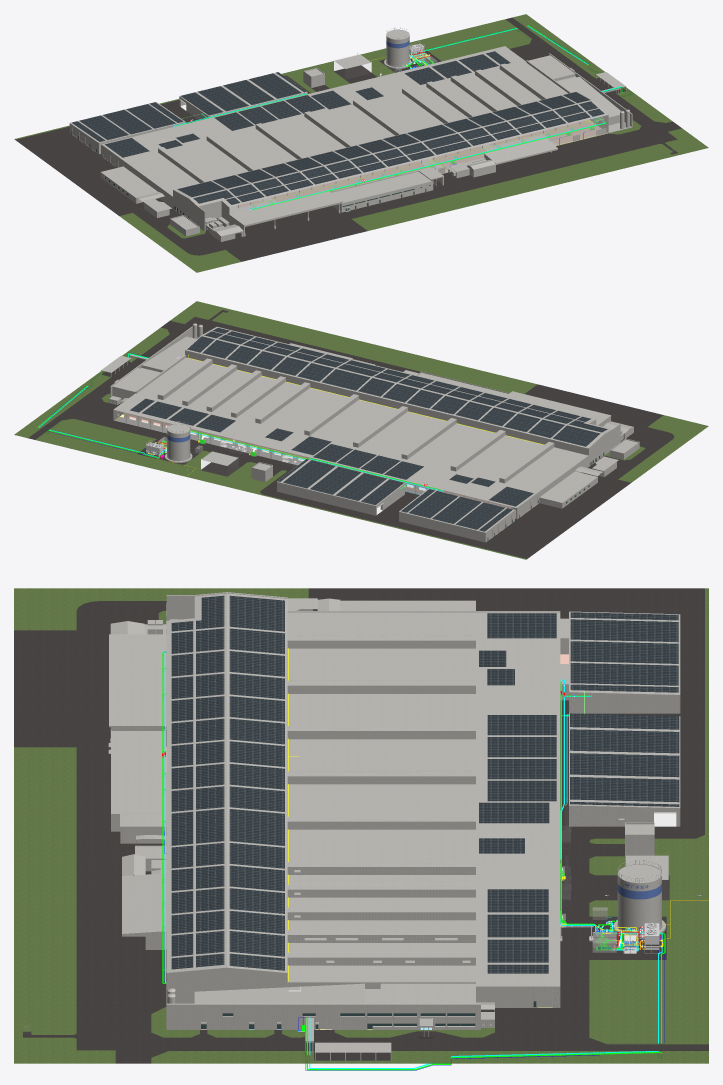
The model's file is 广州双叶厂房_工况Lines(1).glb.
3 renders of one model, top to bottom at view 1: azimuth 30°, elevation 25°; view 2: azimuth 150°, elevation 25°; view 3: azimuth 270°, elevation 25°, orthographic. The views are drawn at different scales.
Visible parts, largest first — view 1: 建筑屋顶, 场地, 建筑墙体, 建筑内部地面, BIM_蓄冷水罐_1_, 建筑门窗, BIM_开关阀_11_/02, BIM_开关阀_11_/01; view 2: 建筑屋顶, 场地, 建筑墙体, 建筑内部地面, BIM_蓄冷水罐_1_; view 3: 建筑屋顶, 场地, 建筑墙体, BIM_蓄冷水罐_1_, 建筑门窗, 管道_绿_常流动.001.
Boxes of the visible parts, x1,y1,x2,y2 form: 建筑屋顶: (70, 46, 620, 229); 场地: (14, 14, 708, 272); 建筑墙体: (69, 53, 632, 241); 建筑内部地面: (73, 104, 607, 213); BIM_蓄冷水罐_1_: (384, 27, 411, 68); 建筑门窗: (71, 128, 606, 220); BIM_开关阀_11_/02: (251, 117, 606, 209); BIM_开关阀_11_/01: (249, 118, 604, 210); 建筑屋顶: (113, 326, 637, 532); 场地: (14, 301, 708, 559); 建筑墙体: (101, 323, 639, 542); 建筑内部地面: (115, 413, 599, 538); BIM_蓄冷水罐_1_: (165, 421, 192, 462); 建筑屋顶: (109, 593, 680, 1003); 场地: (14, 588, 708, 1063); 建筑墙体: (108, 592, 680, 1060); BIM_蓄冷水罐_1_: (613, 860, 665, 938); 建筑门窗: (201, 994, 552, 1029); 管道_绿_常流动.001: (306, 933, 665, 1070).
Size of what is drawn, in the model's own units: 379 by 23.84 by 233.
Materials: 33 (15 with a texture image).
